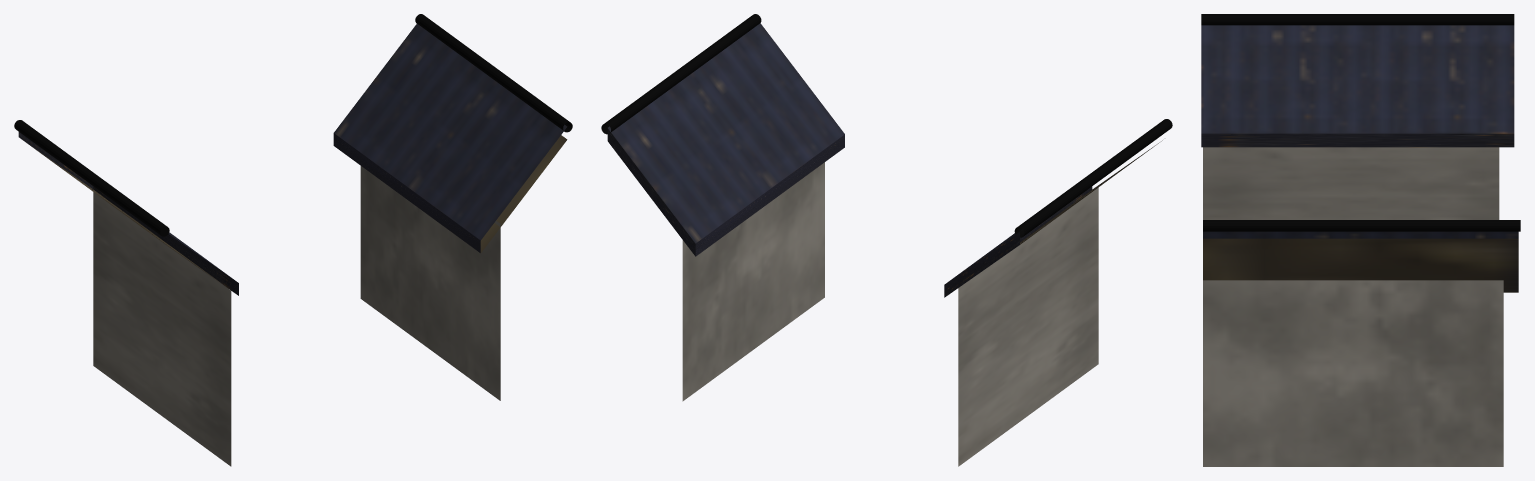
File: Street_Wall_Extra.fbx
3 views of the same model, side by side, from view 1: azimuth 30°, elevation 25°; view 2: azimuth 150°, elevation 25°; view 3: azimuth 270°, elevation 25° (orthographic). The views are drawn at different scales.
Parts seen in each view (by area): view 1: Street_Roof_Edge.008; view 2: Street_Roof_Edge.008; view 3: Street_Roof_Edge.008.
Boxes of the visible parts, bbox=[...] form: Street_Roof_Edge.008: bbox=[14, 14, 572, 466]; Street_Roof_Edge.008: bbox=[601, 14, 1172, 466]; Street_Roof_Edge.008: bbox=[1201, 14, 1520, 466].
Size of the model in its own units: 614 by 373 by 383.
